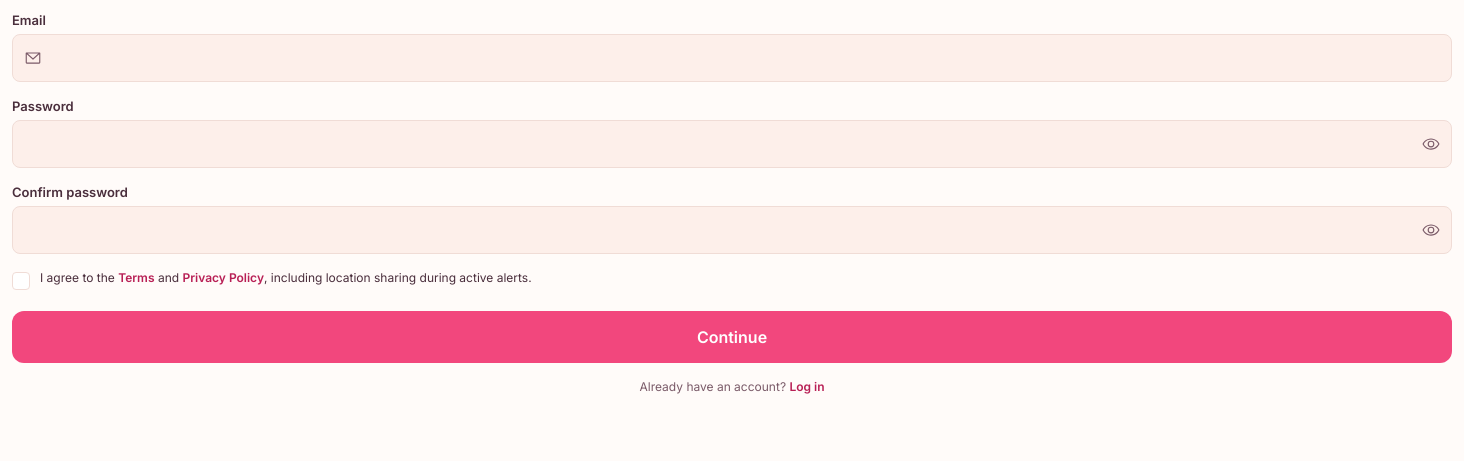
Scenario: RegisterForm › rejects mismatched passwords
Type "citizen@example.com" into the field labelled "Email".
click(732, 58); type("citizen@example.com")  # box [12,34,1452,82]
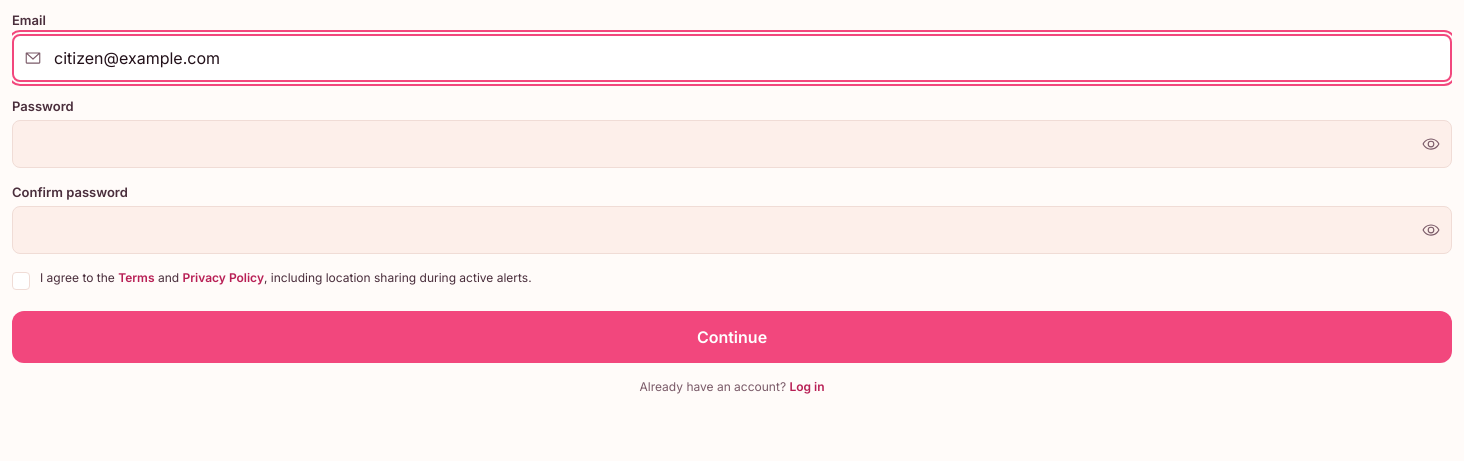
Type "correct-password" into the password field labelled "Password".
click(732, 144); type("correct-password")  # box [12,120,1452,168]
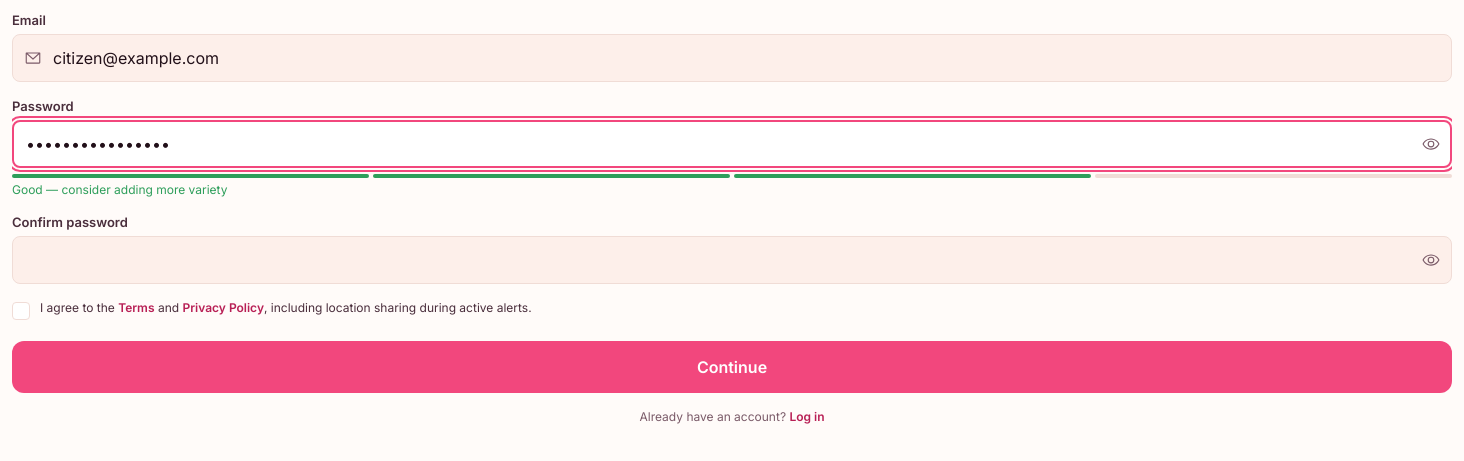
Type "different-password" into the password field labelled "Confirm password".
click(732, 260); type("different-password")  # box [12,236,1452,284]
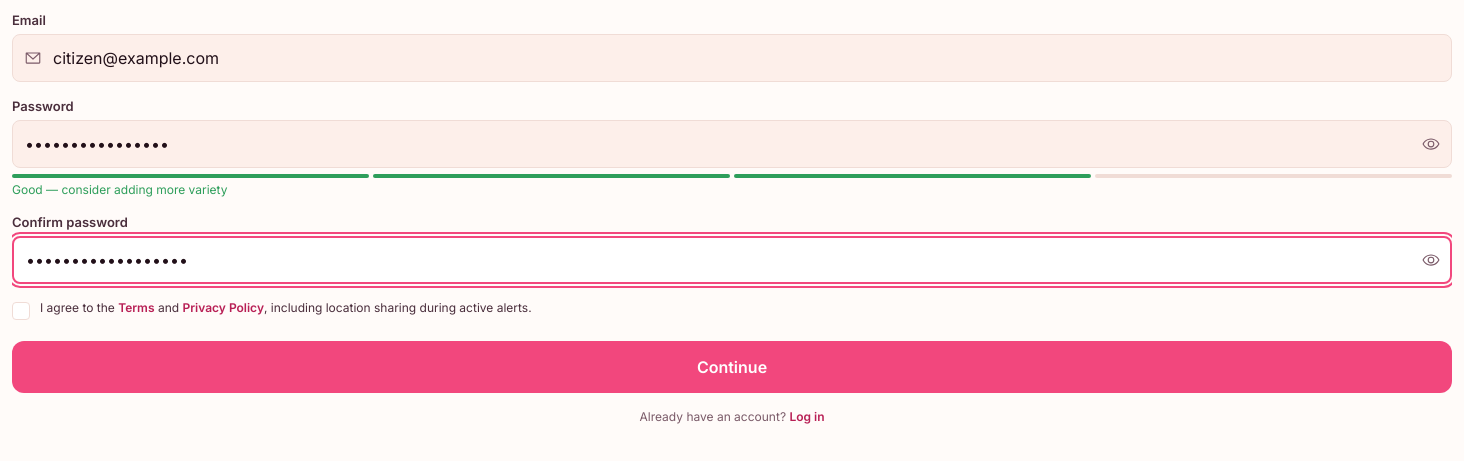
Click the checkbox.
click(272, 310)  # box [12,300,532,320]
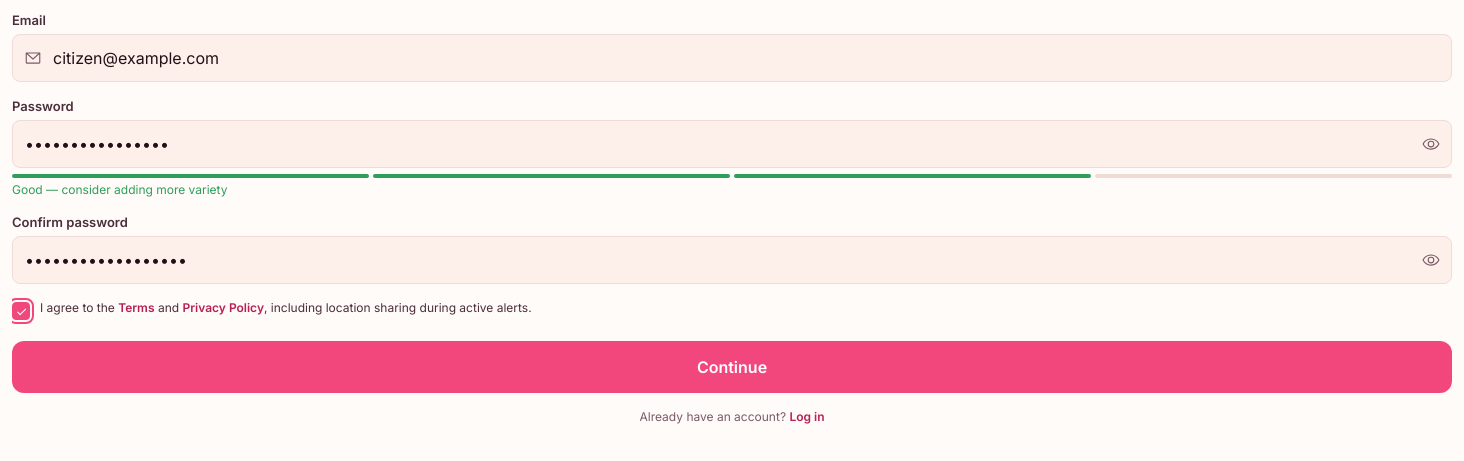
Click the button named "Continue".
click(732, 366)  # box [12,340,1452,392]
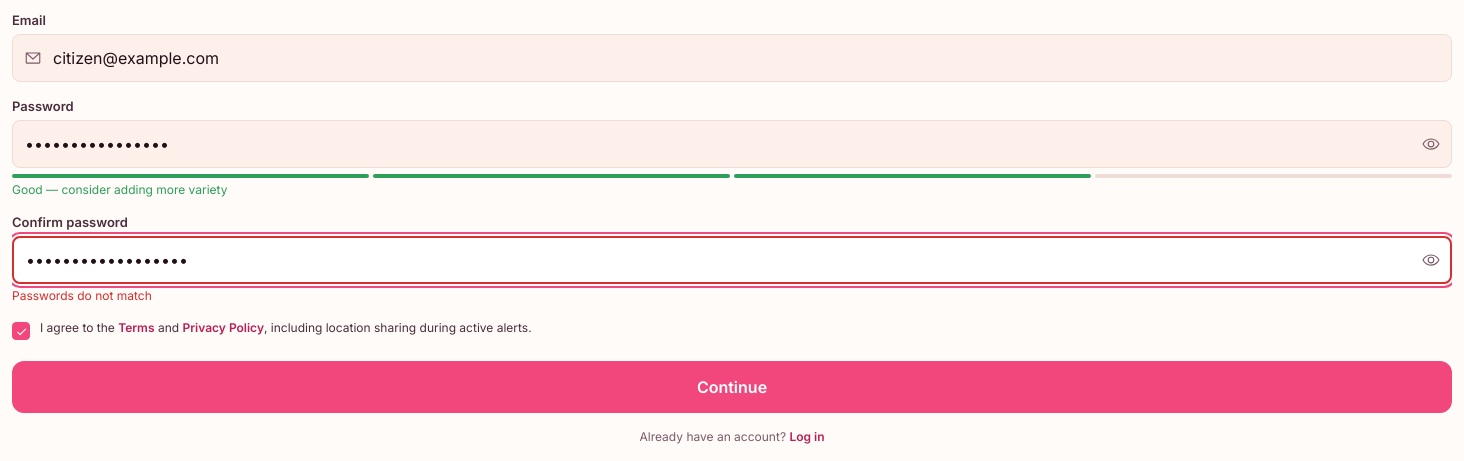
Now the text "Passwords do not match" is shown, box [12,288,152,303]
